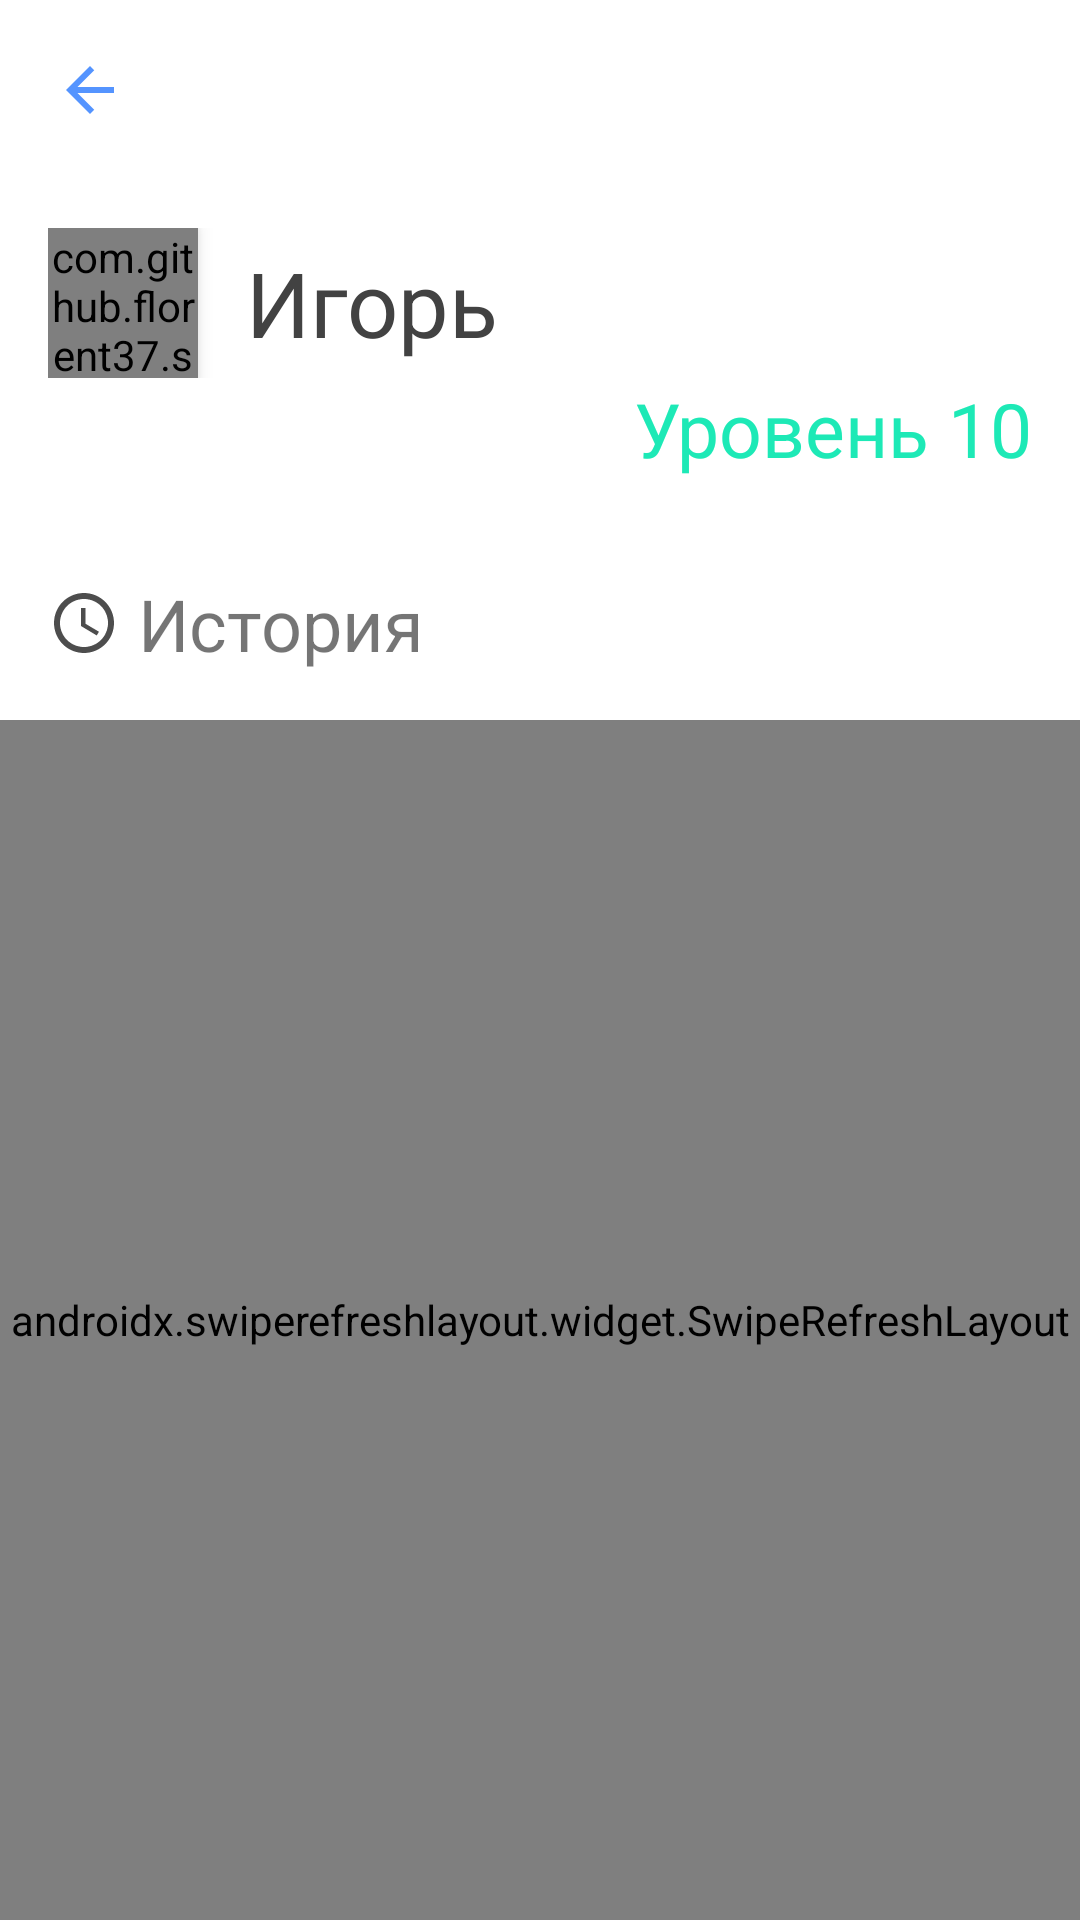

Point at icon controls on the screen. Image size 1080x1920, points as point (x, y).
back: point (90, 90)
